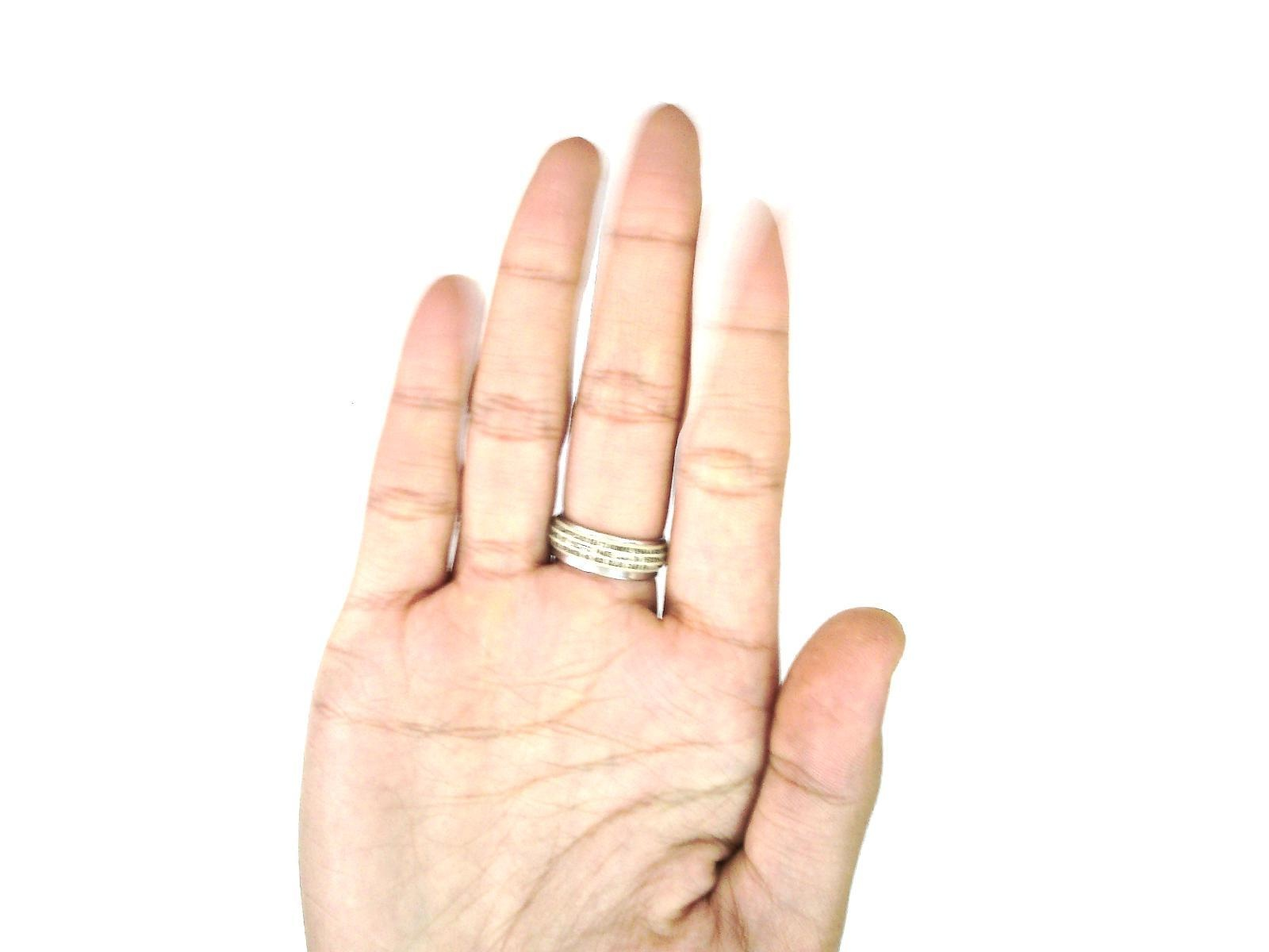open_palm: (294, 103, 908, 951)
